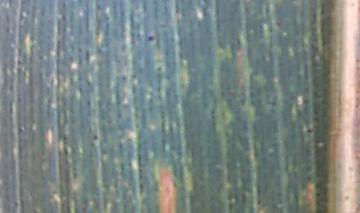tarspot: (146, 33, 157, 43), (305, 126, 315, 136), (93, 134, 100, 143)
